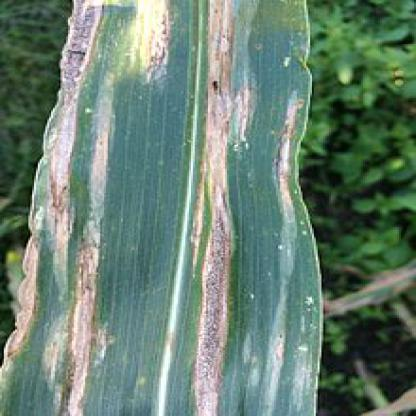corn leaf blight: (13, 1, 333, 415)
